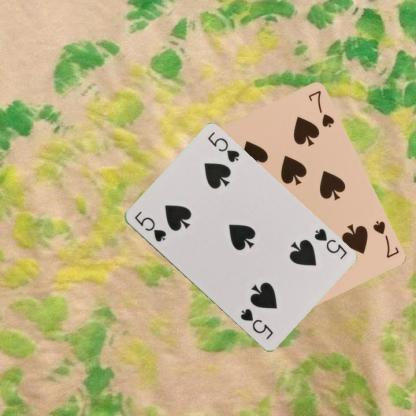5s: (131, 209, 168, 243), (311, 226, 348, 260)
7s: (370, 218, 401, 260)
